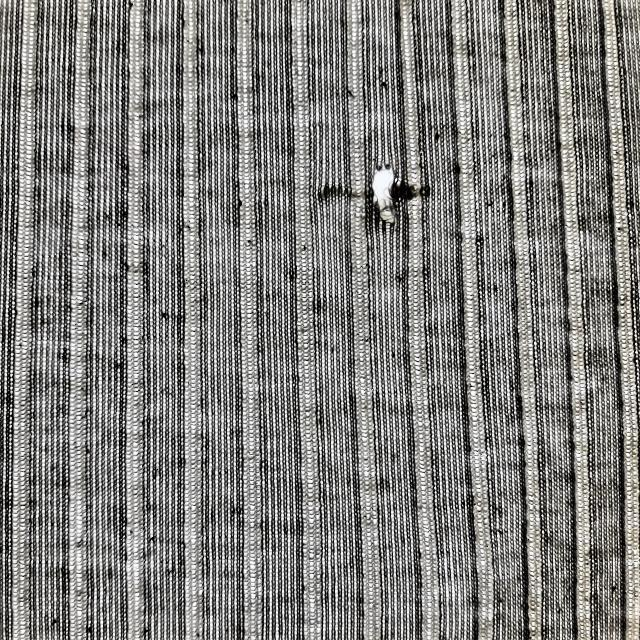cut: (369, 156, 414, 225), (319, 170, 370, 212), (394, 176, 442, 208)
